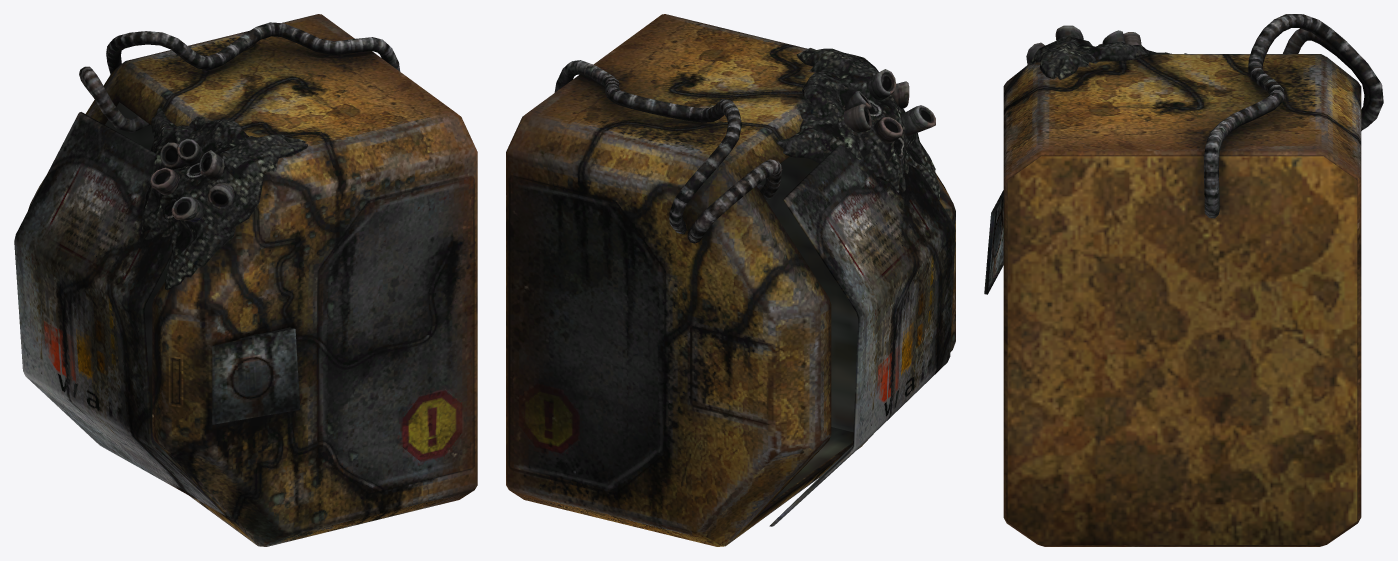
The model's file is waubox_small_infected01.DAE.
3 renders of one model, left to right at view 1: azimuth 30°, elevation 25°; view 2: azimuth 150°, elevation 25°; view 3: azimuth 270°, elevation 25°, orthographic. The views are drawn at different scales.
Visible parts, largest first — view 1: polySurface13; view 2: polySurface13; view 3: polySurface13.
Part boxes in pixels (left/top/right/bottom): polySurface13: left=14, top=14, right=477, bottom=546; polySurface13: left=506, top=14, right=955, bottom=546; polySurface13: left=984, top=14, right=1383, bottom=546.
Bounding box in the file's own units: 0.3753 × 0.3653 × 0.4413.
